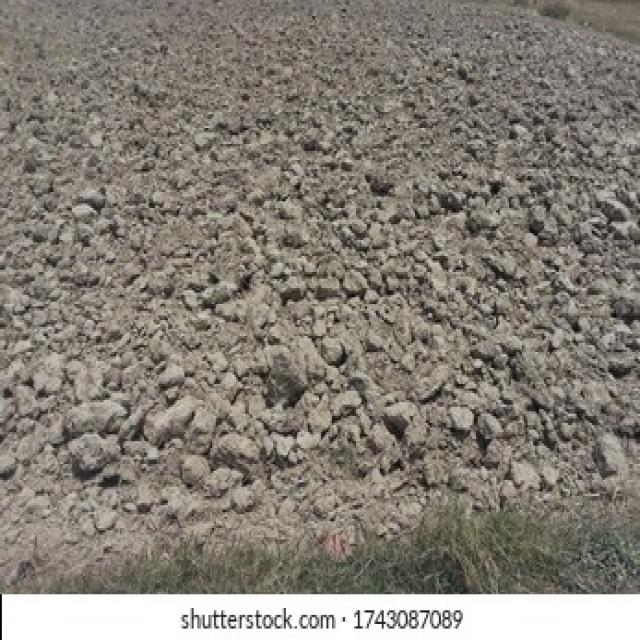Alluvial Soil: (36, 44, 622, 454)
